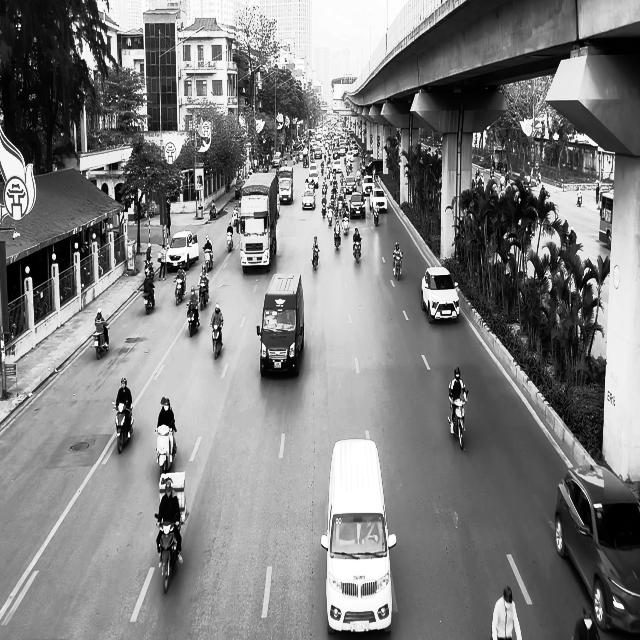bus: (238, 172, 280, 274), (599, 189, 613, 250)
car: (320, 438, 397, 633), (554, 462, 640, 633), (420, 266, 460, 324), (166, 230, 198, 272)
motorbike: (155, 514, 183, 594), (448, 389, 468, 450), (154, 426, 177, 476), (112, 401, 134, 453), (93, 322, 109, 359), (186, 300, 200, 336), (210, 321, 223, 359), (174, 272, 186, 304), (198, 279, 209, 310), (143, 286, 155, 314), (393, 252, 402, 280), (203, 247, 213, 270), (353, 239, 361, 263), (312, 247, 320, 270), (333, 227, 341, 250), (372, 202, 379, 225), (226, 230, 233, 252)
truck: (256, 273, 305, 377)
